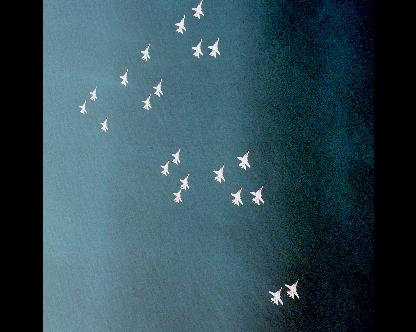EF2000: (284, 280, 298, 300), (268, 286, 282, 306), (249, 185, 263, 205), (236, 150, 250, 170), (191, 0, 204, 20), (212, 164, 224, 184), (207, 38, 219, 58), (230, 188, 242, 207), (190, 40, 202, 58), (174, 15, 184, 35), (170, 148, 180, 166), (152, 79, 162, 97), (178, 174, 188, 190), (141, 95, 150, 111), (140, 44, 148, 62), (172, 188, 180, 204), (160, 160, 168, 176), (119, 70, 127, 86), (88, 86, 96, 102), (78, 101, 86, 115), (100, 118, 107, 132)
